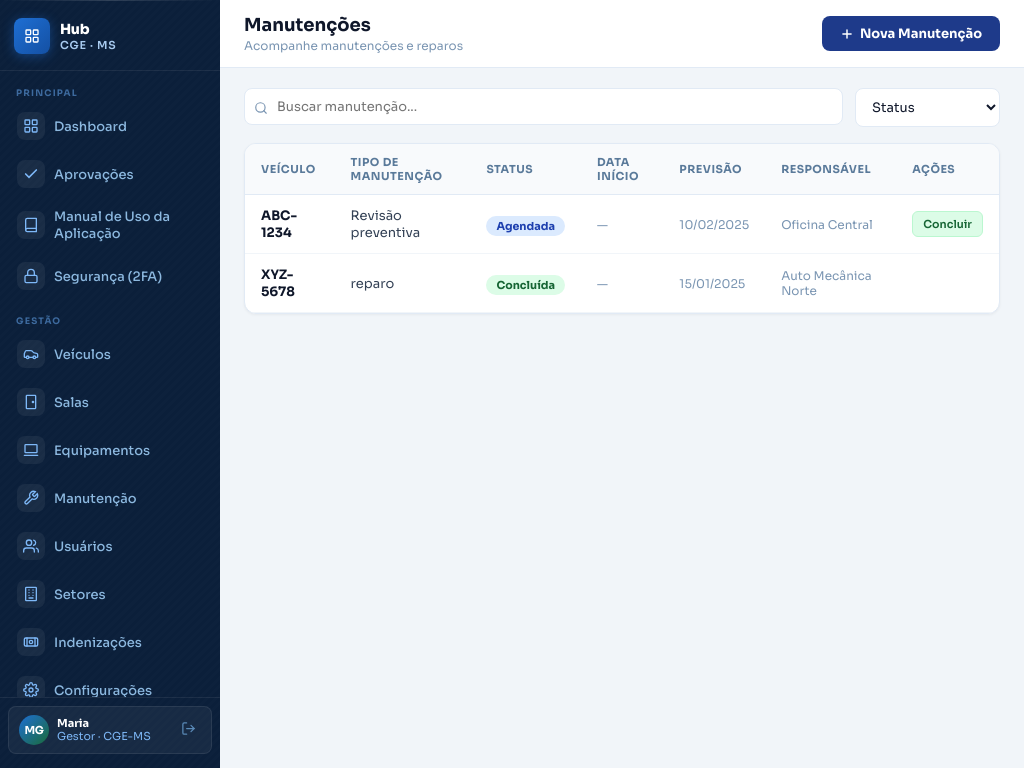
Manutencao — filtros › filtro Agendada mostra apenas man-001
Expected: the text "ABC-1234" is shown, [245,194,334,254]
Select "Agendada" in the dropdown at {"x": 928, "y": 108}, box [855,88,1000,127]
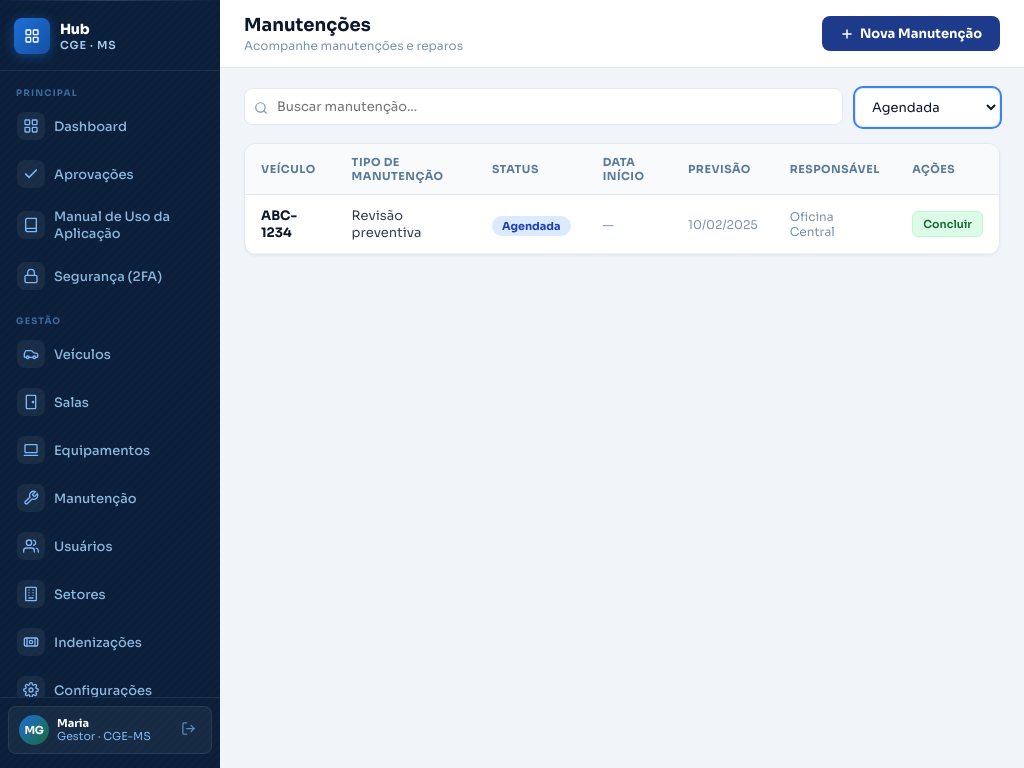
Expected: the text "ABC-1234" is shown, [245,194,336,254]
Now the text "XYZ-5678" is gone
